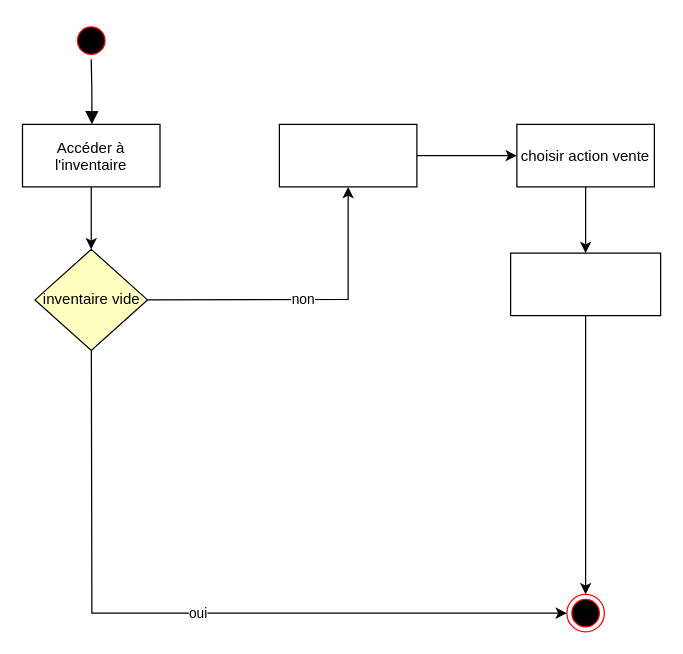
This 683x654 diagram has some shape labels left out. Each missing label, with the box of its shape:
Augmentation nombre pièces: (509, 252, 661, 316)
Sélectionner objet: (278, 123, 417, 187)
